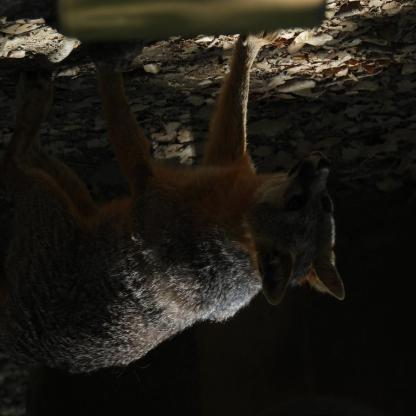zorro: (0, 29, 346, 390)
